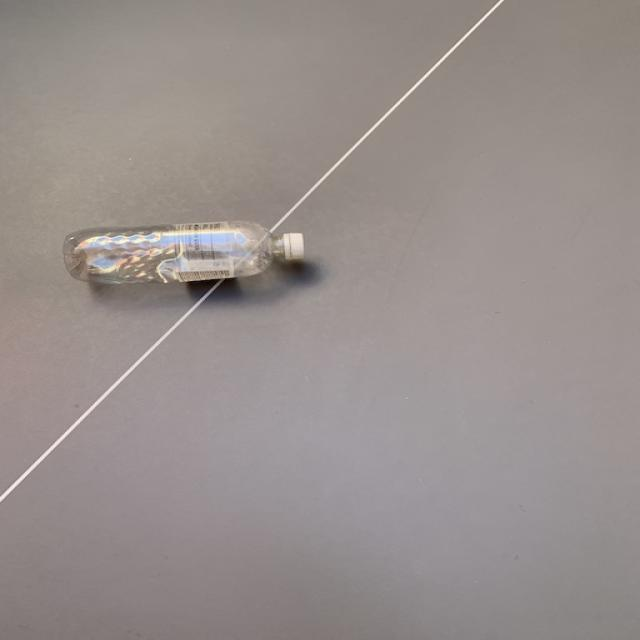Plastic: (62, 221, 302, 283)
